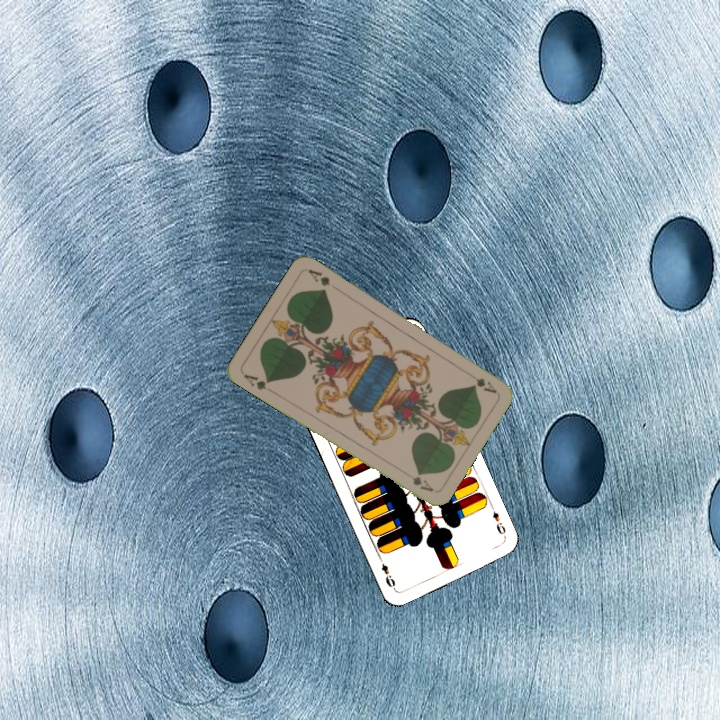E9: (487, 502, 509, 541)
GA: (464, 368, 499, 396), (240, 370, 273, 393)
